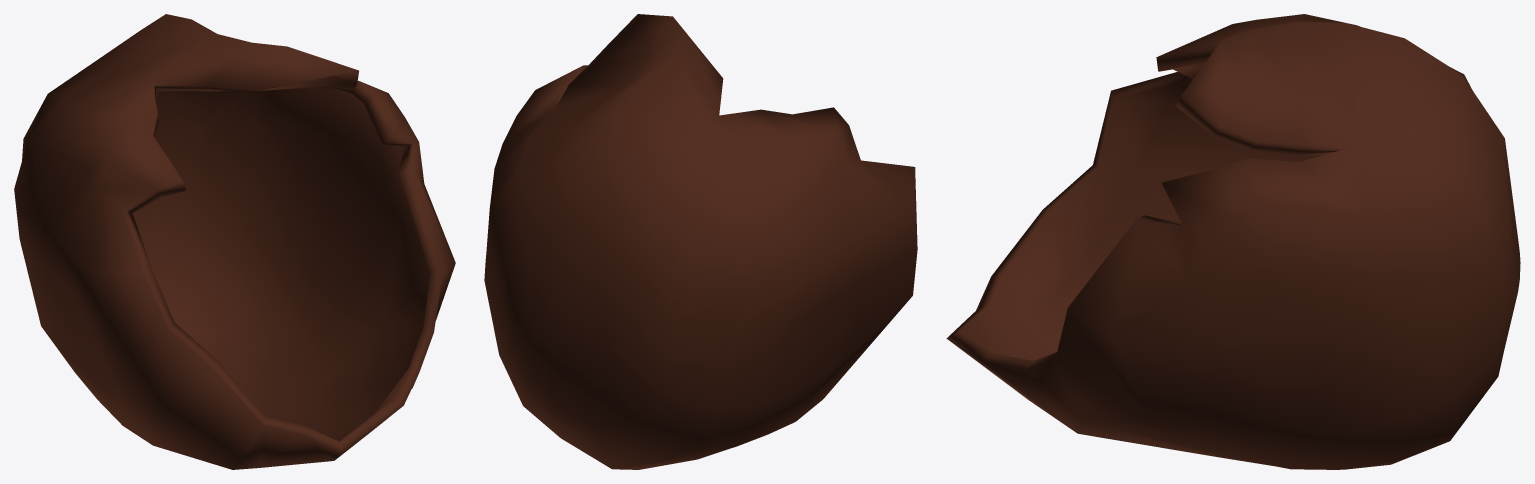
The picture shows the model from 3 angles, left to right: view 1: azimuth 30°, elevation 25°; view 2: azimuth 150°, elevation 25°; view 3: azimuth 270°, elevation 25°; orthographic projection. The views are drawn at different scales.
Parts seen in each view (by area): view 1: Cube.002; view 2: Cube.002; view 3: Cube.002.
Boxes of the visible parts, x1=… form: Cube.002: x1=14, y1=14, x2=455, y2=469; Cube.002: x1=484, y1=14, x2=917, y2=469; Cube.002: x1=946, y1=14, x2=1520, y2=469.
Bounding box in the file's own units: 98.25 × 106 × 125.
